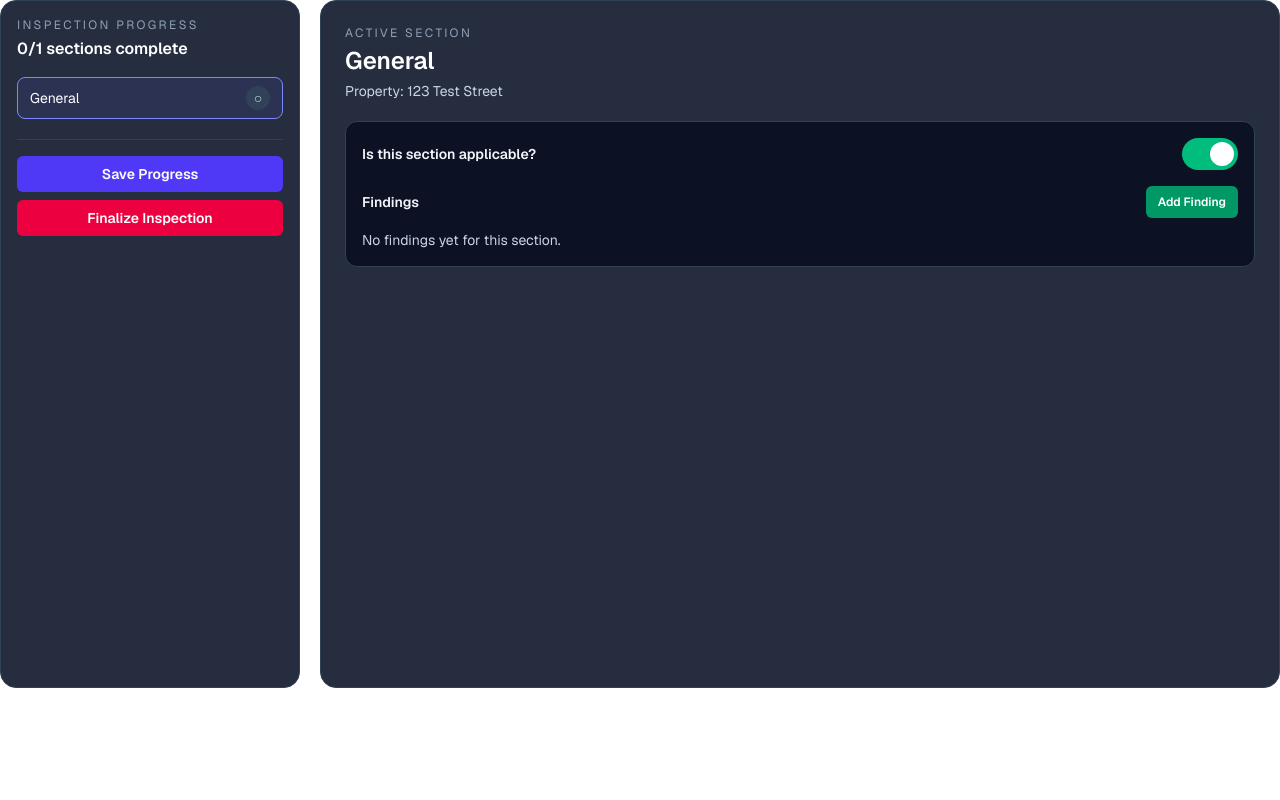
it: InspectionWorkspace › adds a finding using canned comment quick-fill
Expected: the text "Active Section" is shown, [345,25,472,41]
Click the button "Add Finding". click: (1192, 202)
box: [1146,186,1238,218]
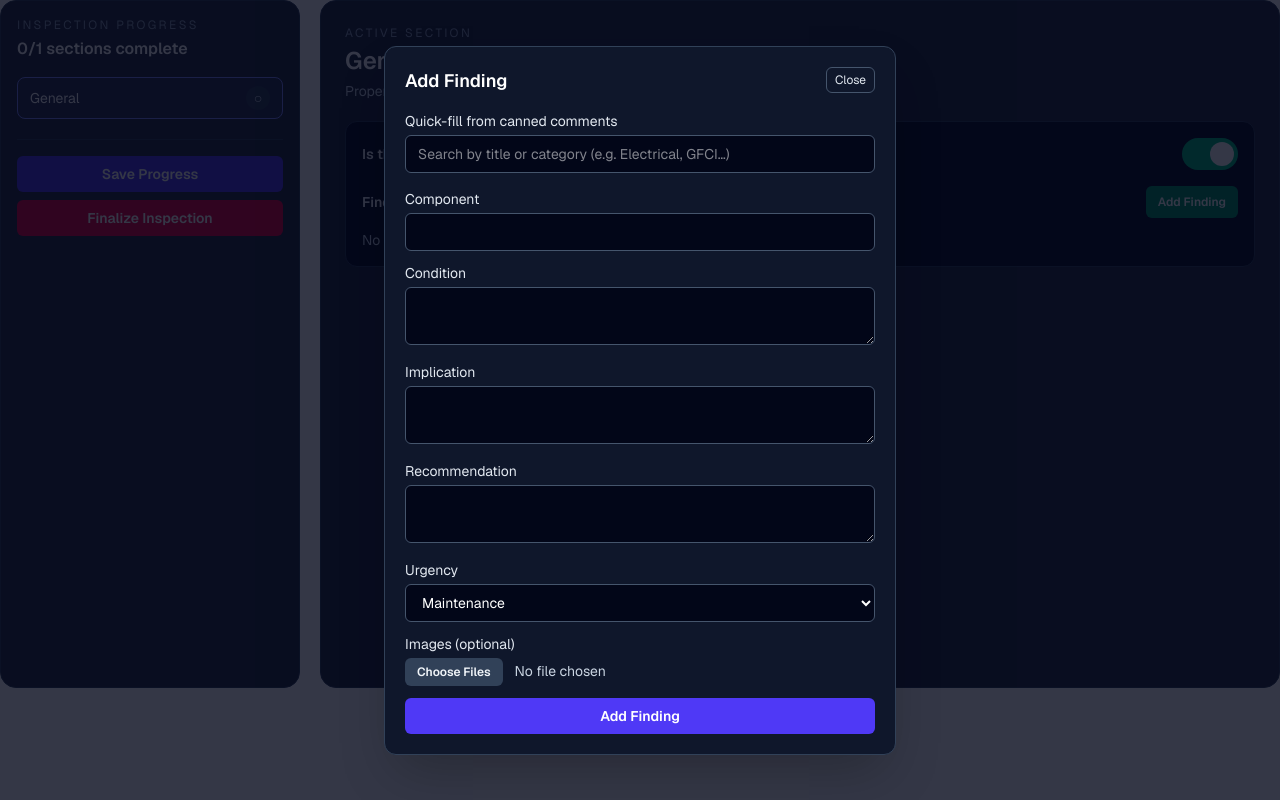
Type "gfc" into the search field labelled "Quick-fill from canned comments". click: (640, 154)
box: [405,134,875,172]
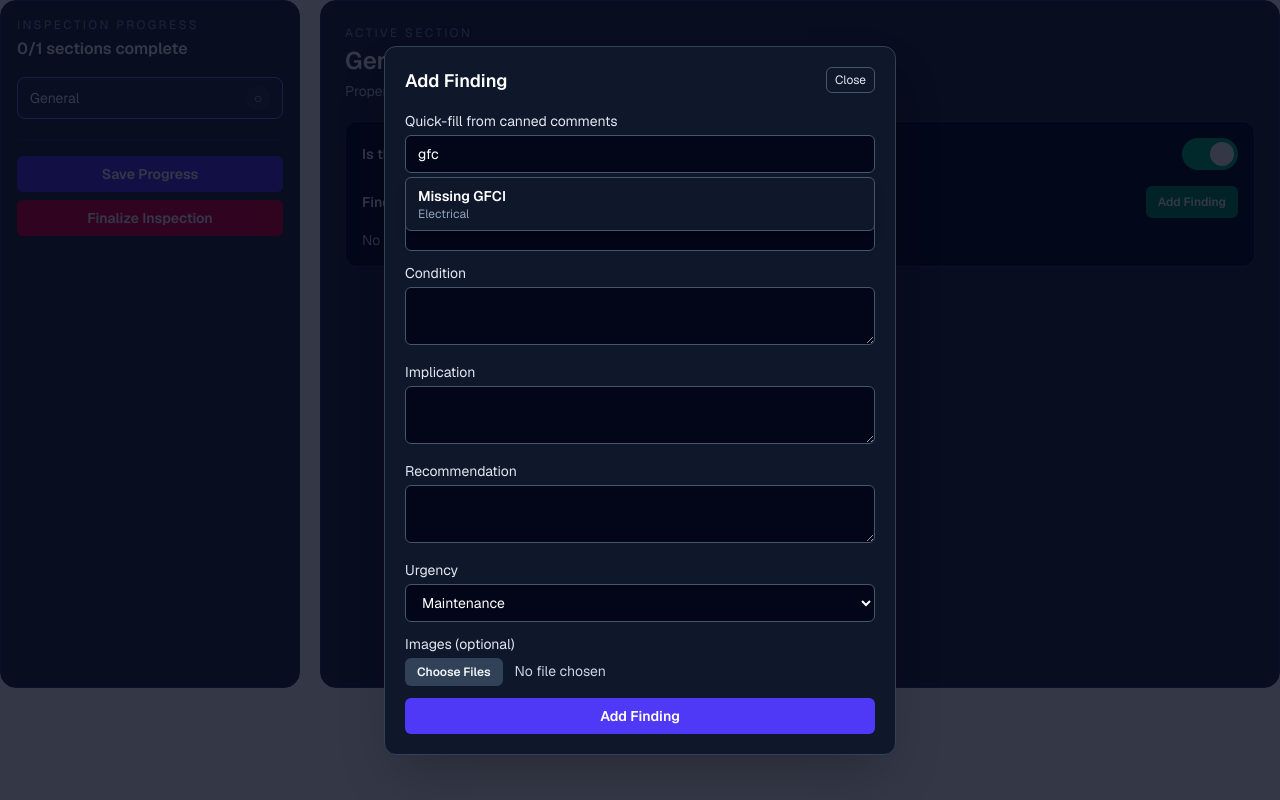
Click the button "Missing GFCI Electrical". click: (462, 196)
box: [406,178,874,230]
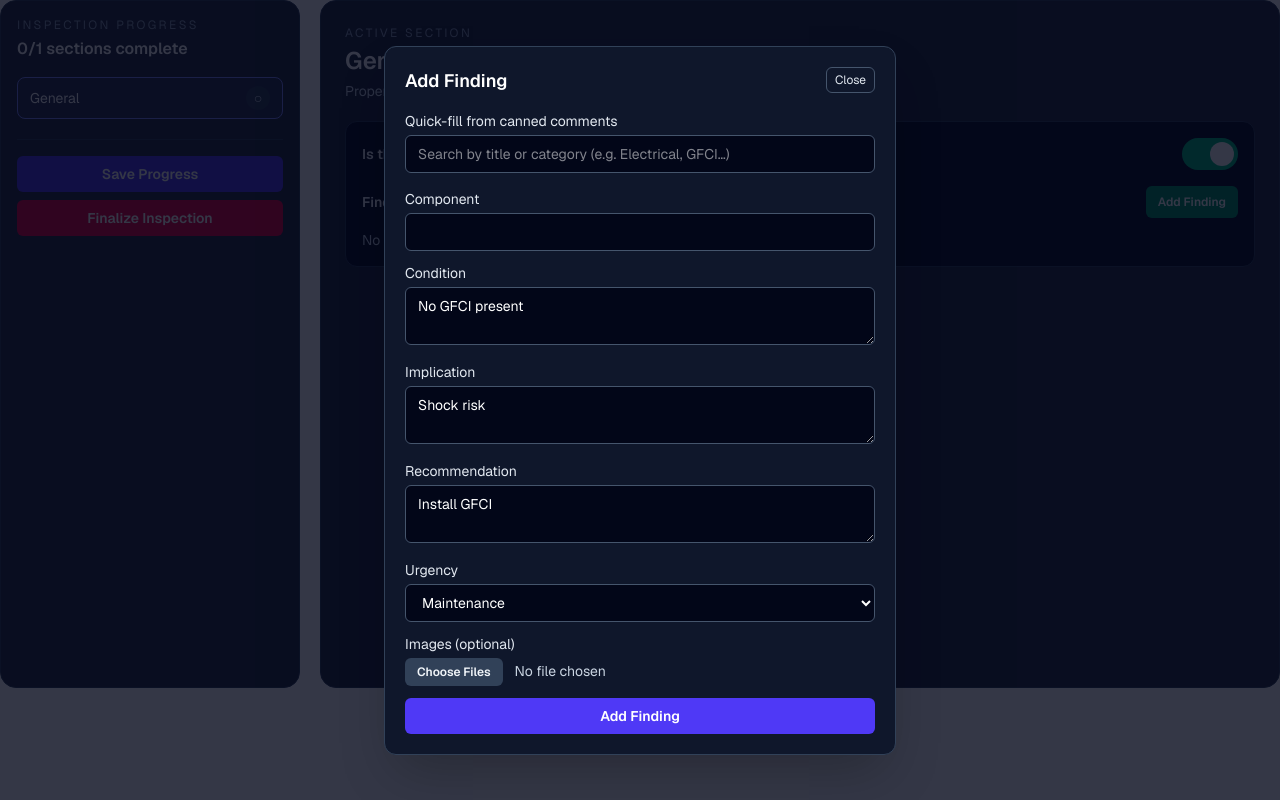
Type "Bathroom outlet" into the field labelled "Component". click: (640, 232)
box: [405,212,875,250]
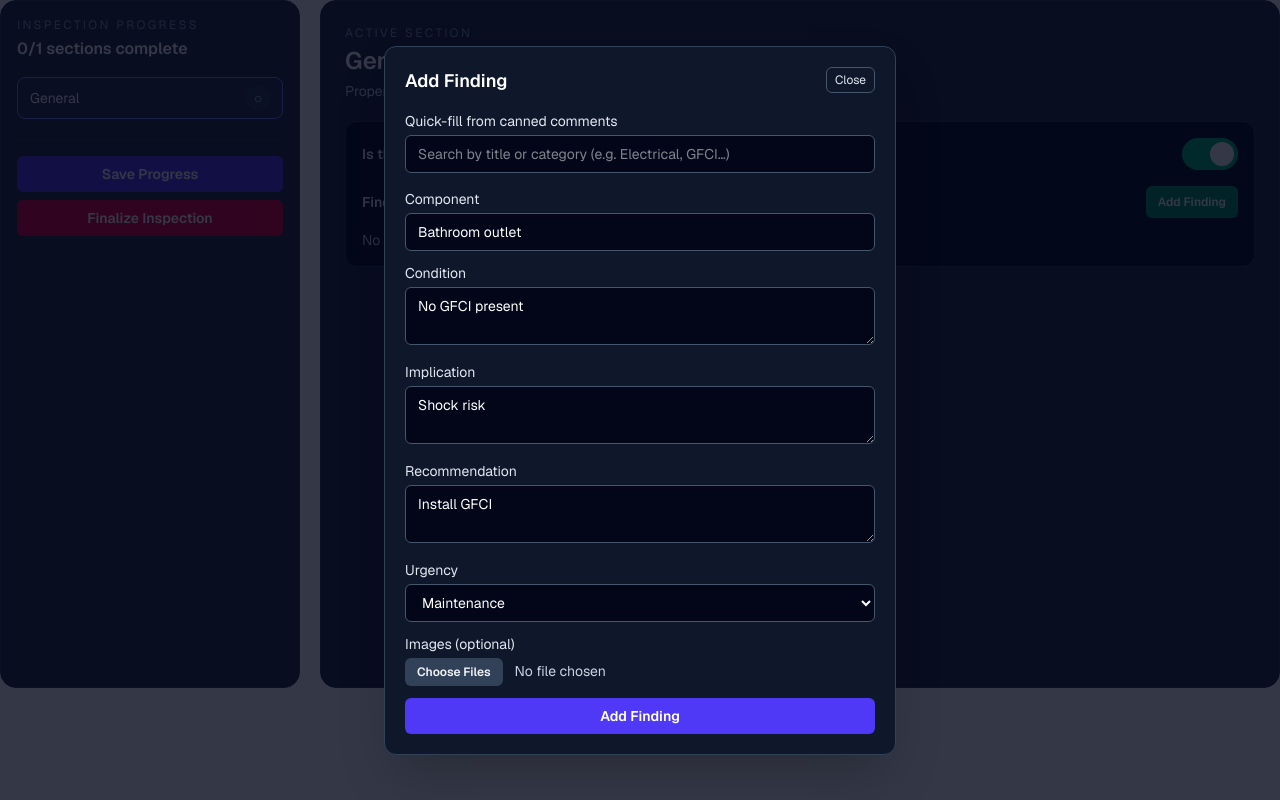
Click the button "Add Finding". click: (640, 716)
box: [405,698,875,734]
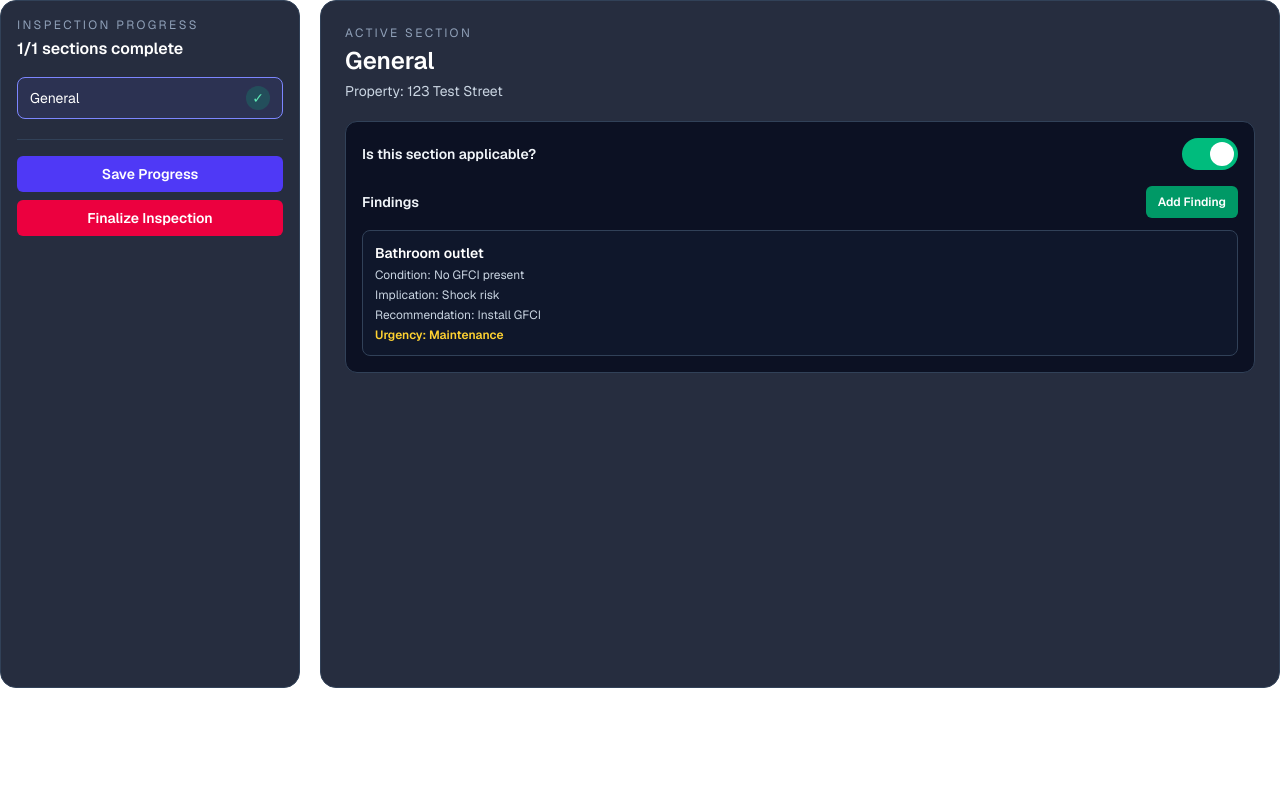
Result: the text "Bathroom outlet" is shown at [375,244,484,262]
Result: the text "Condition: No GFCI present" is shown at [375,267,524,283]
Result: the text "Implication: Shock risk" is shown at [375,287,500,303]
